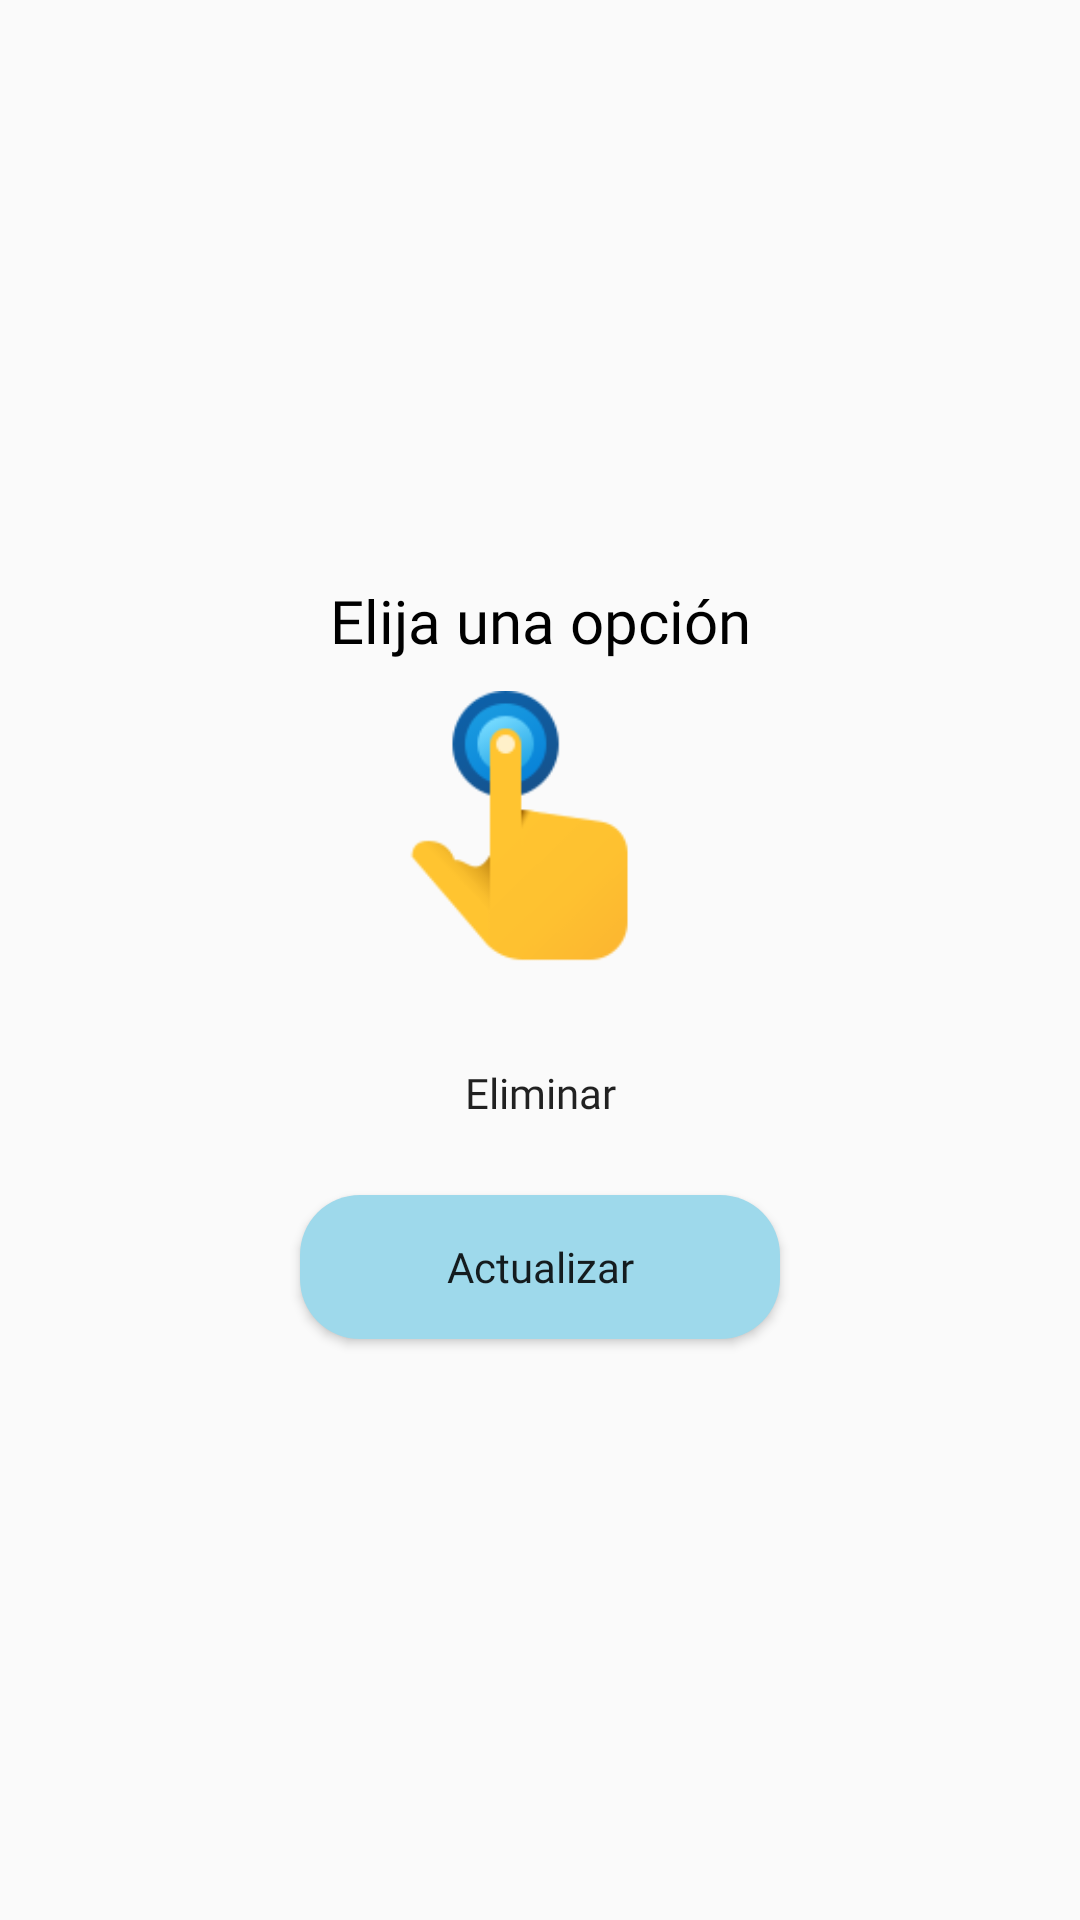

Screen size 1080x1920. Icon name, then its box in pixels as region(x1, y1, x2, y2):
click: region(410, 691, 628, 961)
